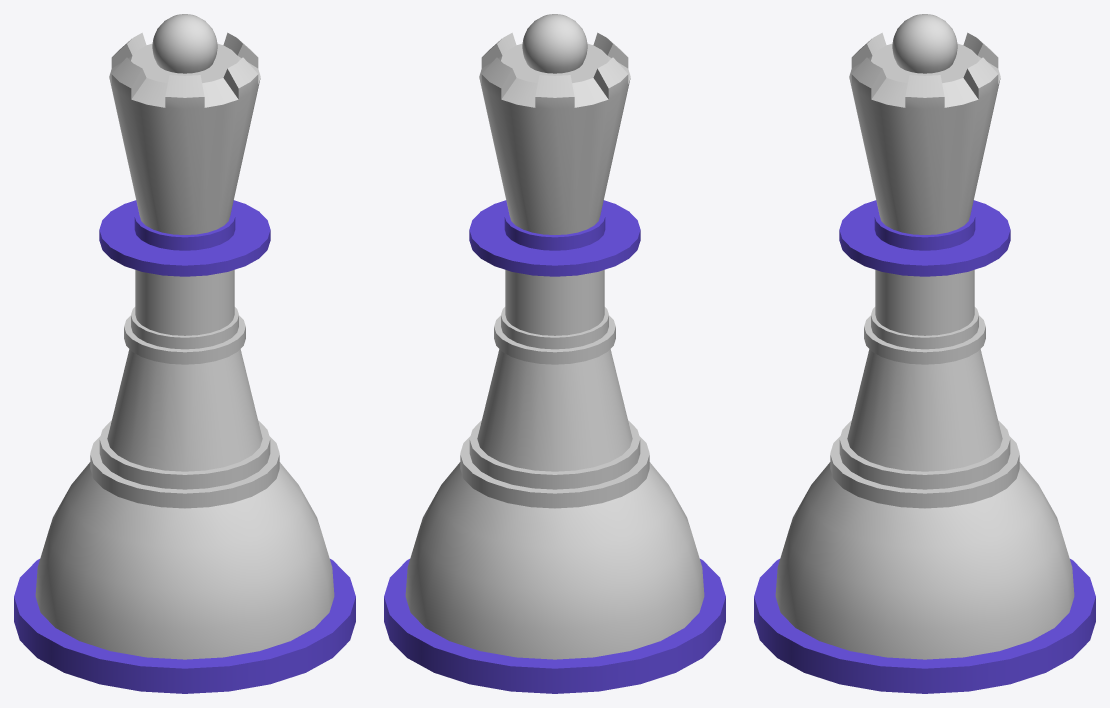
Rendered from queen.fbx.
3 renders of one model, left to right at view 1: azimuth 30°, elevation 25°; view 2: azimuth 150°, elevation 25°; view 3: azimuth 270°, elevation 25°, orthographic.
Visible parts, largest first — view 1: queen; view 2: queen; view 3: queen.
Part boxes in pixels (box(x1,y1,x2,y2)): queen: box(14, 14, 355, 693); queen: box(384, 14, 725, 693); queen: box(754, 14, 1095, 693).
Bounding box in the file's own units: 181 × 353 × 181.
